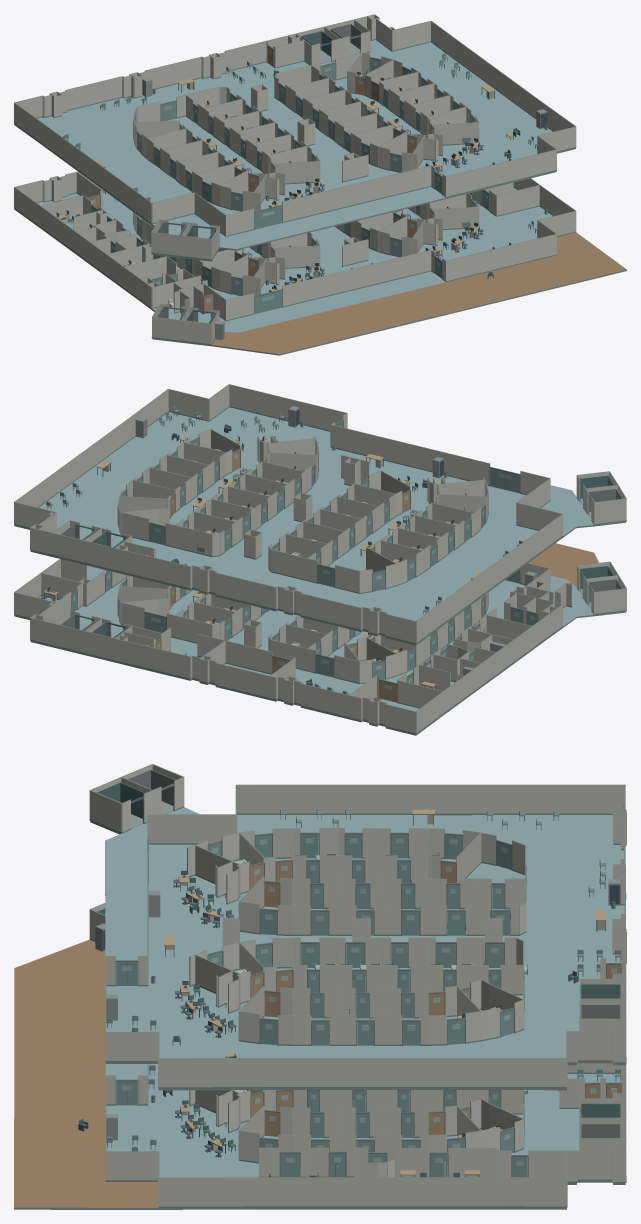
The model's file is Clinic-World.glb.
The picture shows the model from 3 angles, top to bottom: view 1: azimuth 30°, elevation 25°; view 2: azimuth 150°, elevation 25°; view 3: azimuth 270°, elevation 25°; orthographic projection. The views are drawn at different scales.
Parts seen in each view (by area): view 1: L2 floor, walls and doors, L1 floor, walls and doors, lift_1, lift_2; view 2: L2 floor, walls and doors, L1 floor, walls and doors; view 3: L2 floor, walls and doors, L1 floor, walls and doors, lift_25, lift_24, lift_2.
Part boxes in pixels (left/top/right/bottom): L2 floor, walls and doors: left=14, top=14, right=576, bottom=261; L1 floor, walls and doors: left=14, top=171, right=626, bottom=355; lift_1: left=301, top=31, right=333, bottom=63; lift_2: left=330, top=24, right=362, bottom=55; L2 floor, walls and doors: left=14, top=384, right=626, bottom=645; L1 floor, walls and doors: left=14, top=543, right=626, bottom=735; L2 floor, walls and doors: left=89, top=764, right=626, bottom=1090; L1 floor, walls and doors: left=14, top=903, right=626, bottom=1209; lift_25: left=97, top=782, right=144, bottom=828; lift_24: left=128, top=769, right=175, bottom=814; lift_2: left=580, top=1004, right=620, bottom=1018.
Size of the model in its own units: 52.93 by 12.67 by 46.51.
